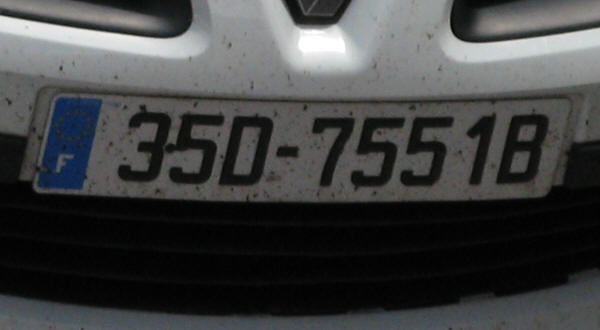license_plate: (31, 94, 571, 202)
